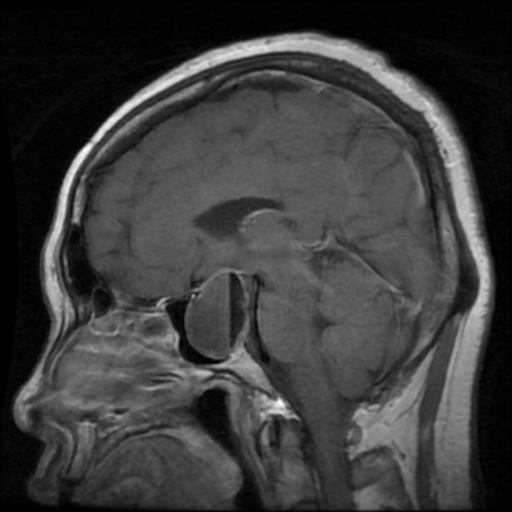pituitary: (185, 269, 252, 360)
